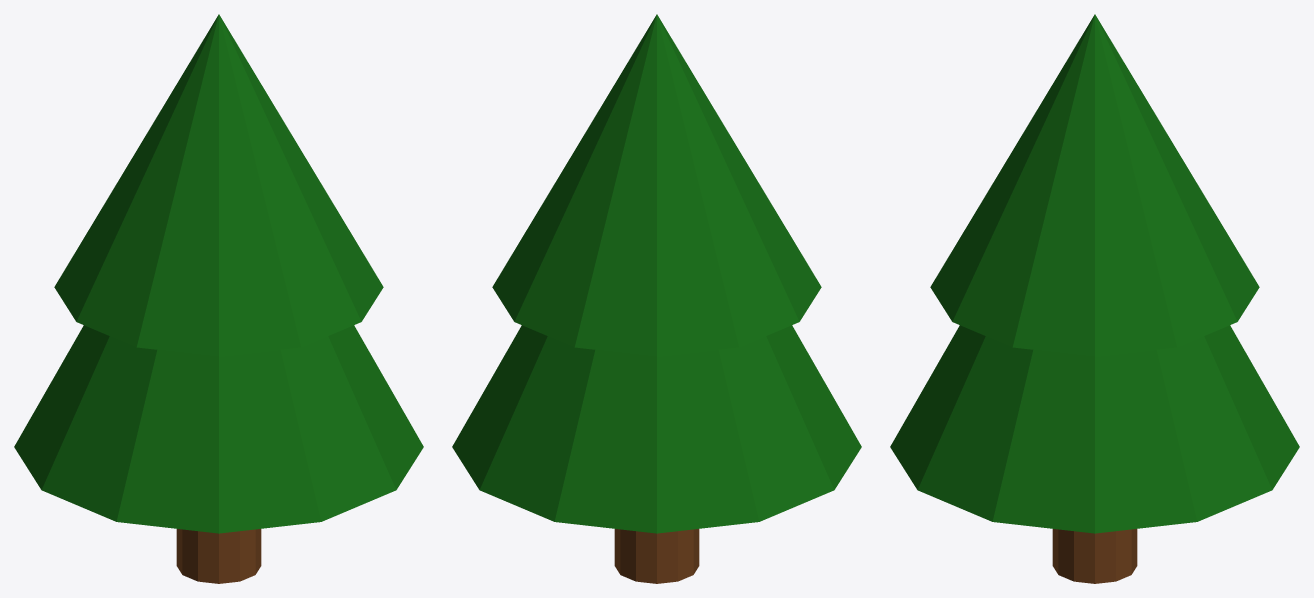
The model's file is Three.fbx.
3 renders of one model, left to right at view 1: azimuth 30°, elevation 25°; view 2: azimuth 150°, elevation 25°; view 3: azimuth 270°, elevation 25°, orthographic.
Parts seen in each view (by area): view 1: Three; view 2: Three; view 3: Three.
Part boxes in pixels (left/top/right/bottom): Three: left=14, top=14, right=423, bottom=583; Three: left=452, top=14, right=861, bottom=583; Three: left=890, top=14, right=1299, bottom=583.
Bounding box in the file's own units: 2.02 × 3 × 2.02.
